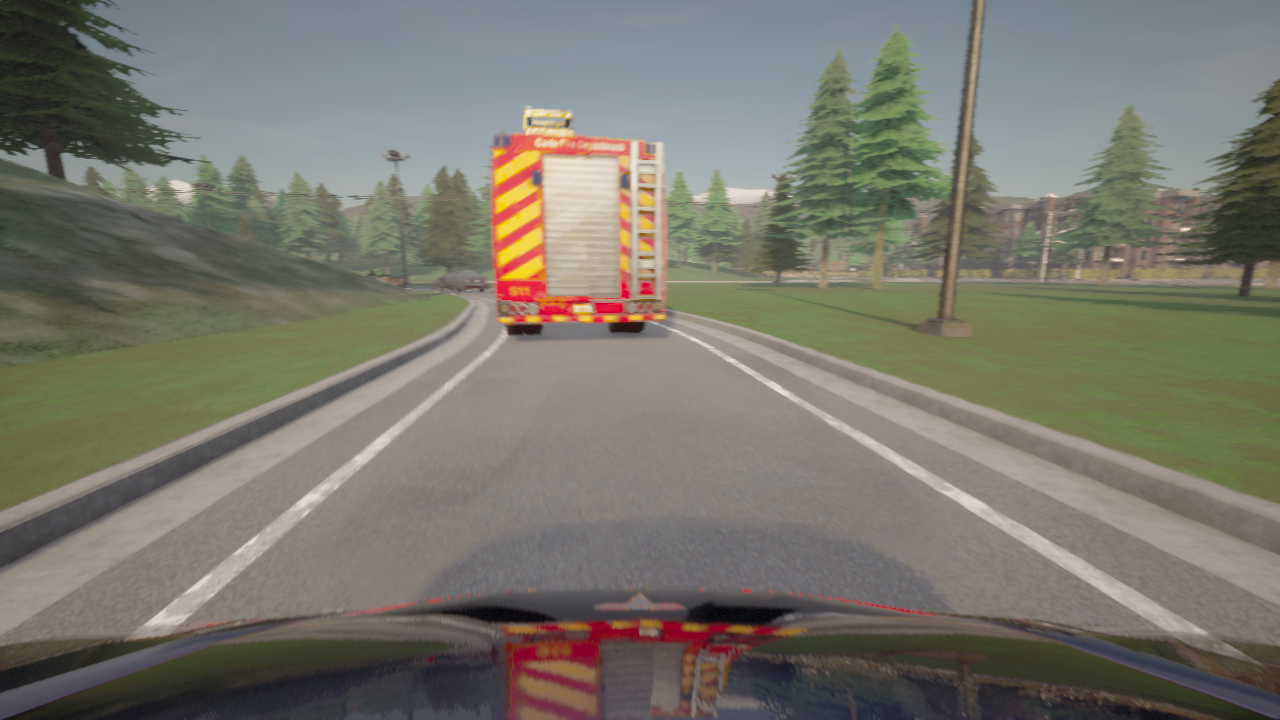cyclist: (0, 588, 1279, 719), (490, 106, 665, 335), (434, 270, 490, 292), (367, 274, 382, 280)
